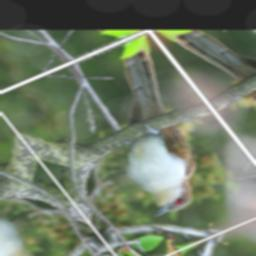Cuckoo: (42, 36, 256, 221)
